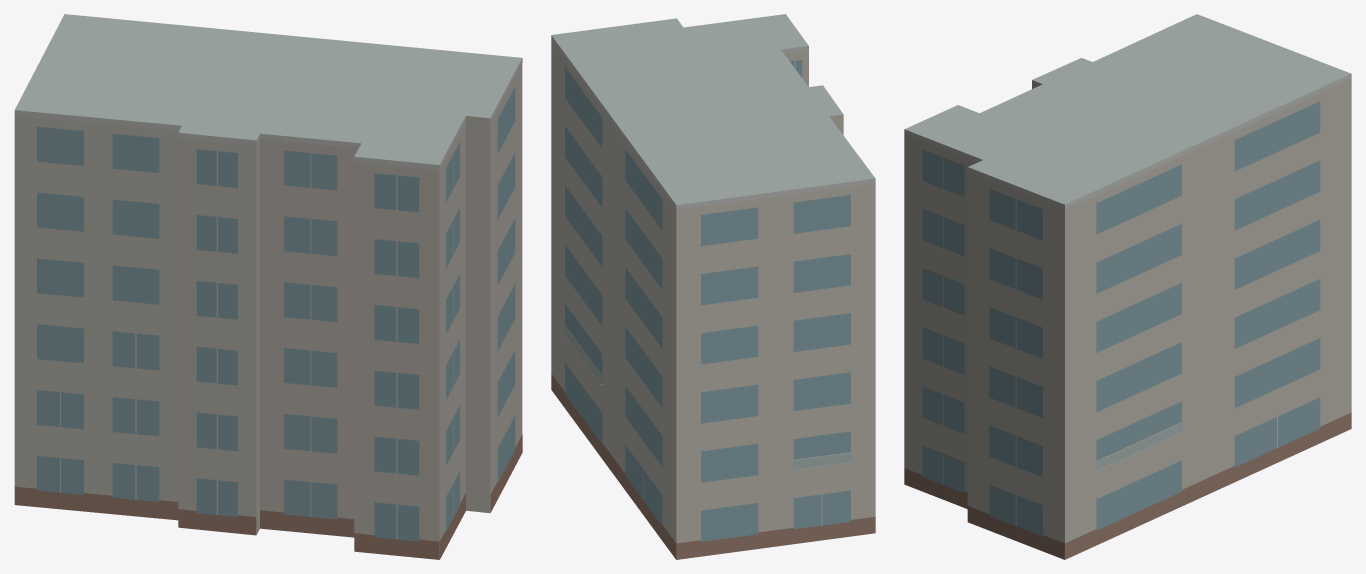
Rendered from survey-upis-32713152.glb.
3 views of the same model, side by side, from view 1: azimuth 30°, elevation 25°; view 2: azimuth 150°, elevation 25°; view 3: azimuth 270°, elevation 25° (orthographic). The views are drawn at different scales.
Parts seen in each view (by area): view 1: survey-upis-32713152.tmp; view 2: survey-upis-32713152.tmp; view 3: survey-upis-32713152.tmp.
Part boxes in pixels (x1,y1,x2,y2): survey-upis-32713152.tmp: [14, 14, 522, 559]; survey-upis-32713152.tmp: [551, 14, 875, 559]; survey-upis-32713152.tmp: [904, 14, 1351, 559].
Size of the model in its own units: 21.07 by 18.3 by 20.88.
